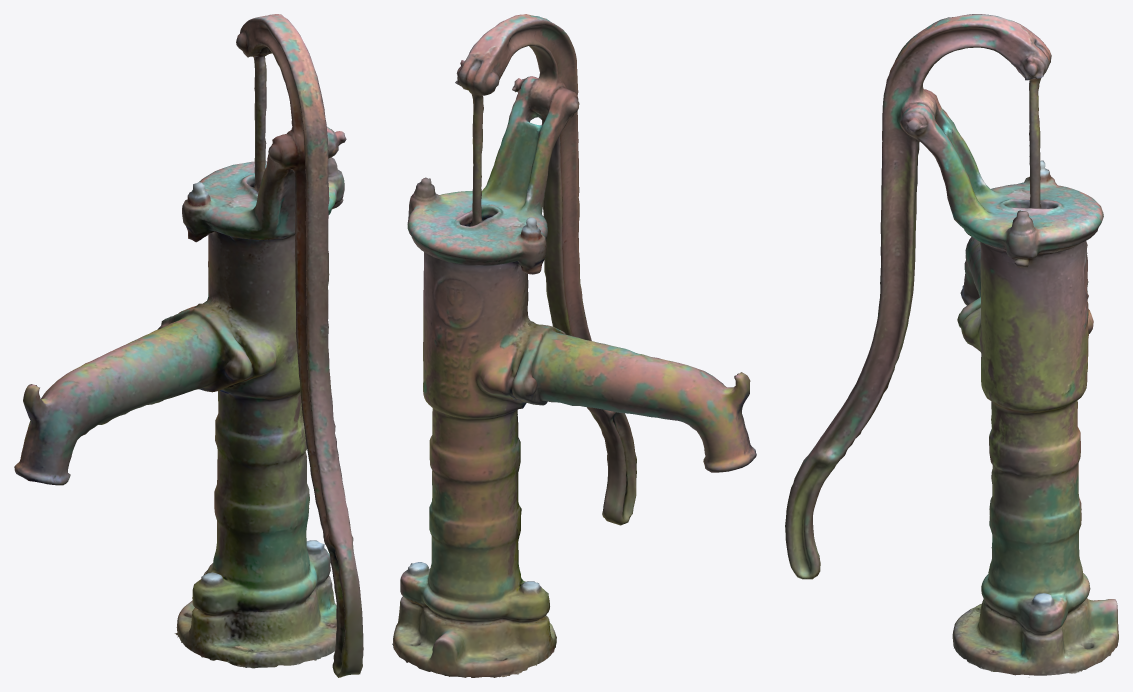
Rendered from waterv2.glb.
3 views of the same model, side by side, from view 1: azimuth 30°, elevation 25°; view 2: azimuth 150°, elevation 25°; view 3: azimuth 270°, elevation 25° (orthographic). The views are drawn at different scales.
Visible parts, largest first — view 1: Object_2; view 2: Object_2; view 3: Object_2.
Part boxes in pixels (x1,y1,x2,y2): Object_2: (14,14,363,677); Object_2: (392,14,756,677); Object_2: (785,14,1118,677).
Bounding box in the file's own units: 1.11 × 1.99 × 0.9698.
Materials: 1 (1 with a texture image).
